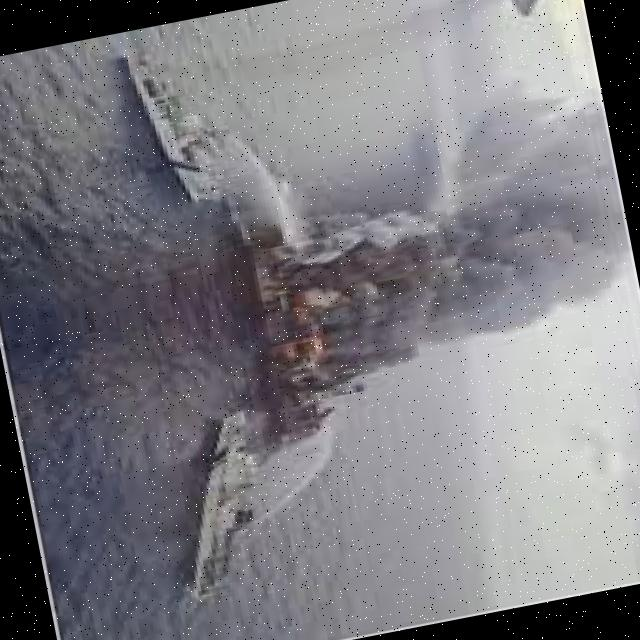explosion: (209, 98, 640, 491)
